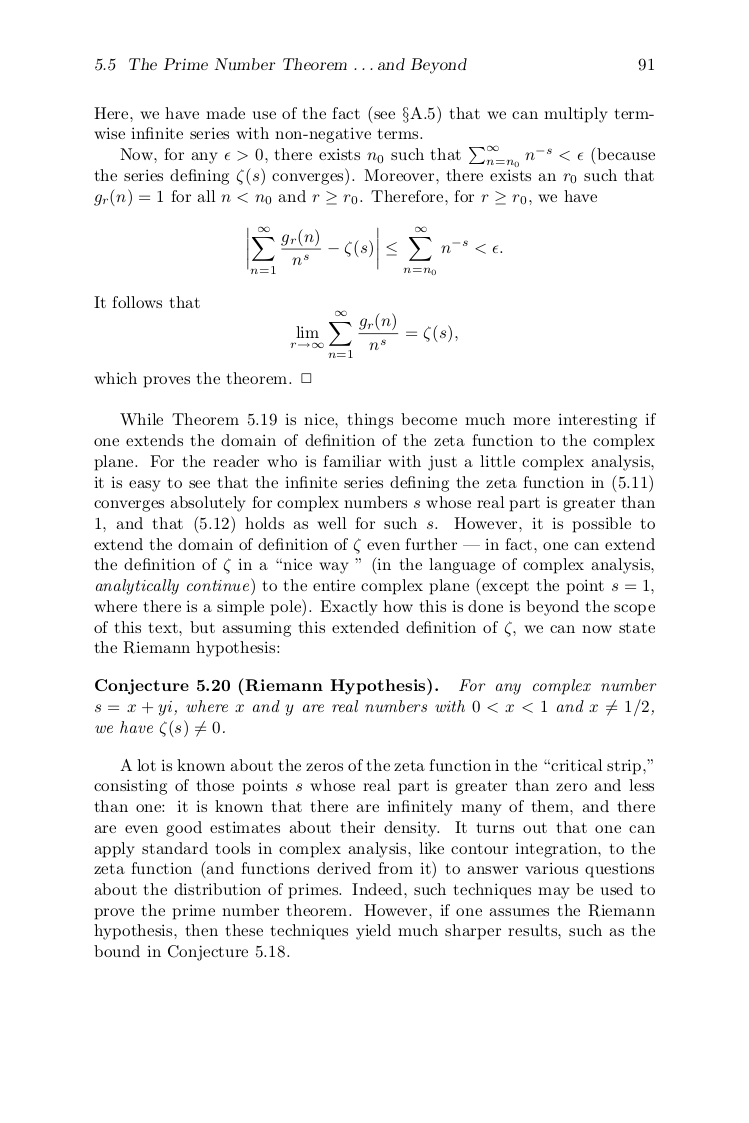formula: (247, 225, 502, 276), (290, 310, 457, 357)
